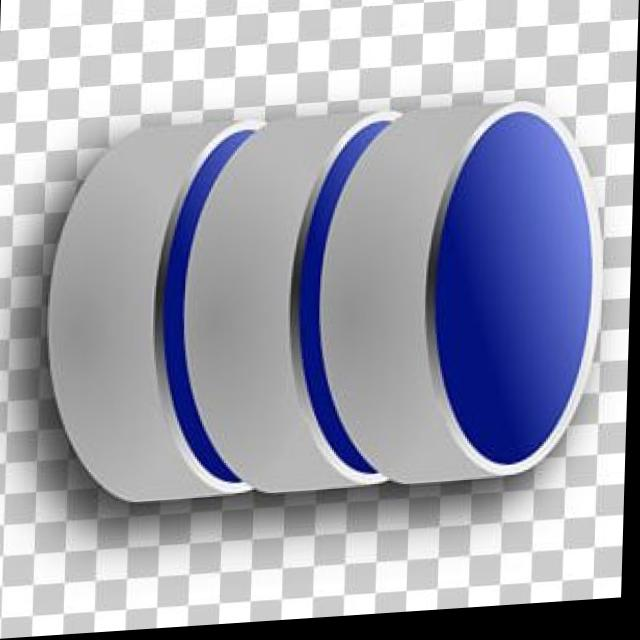Database: (22, 60, 623, 563)
